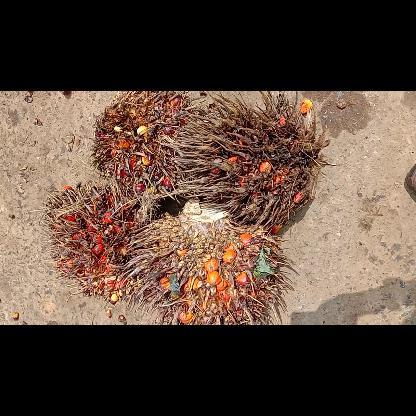Terlalu masak: (162, 91, 332, 231), (123, 194, 301, 324), (34, 177, 160, 307), (86, 91, 208, 204)
